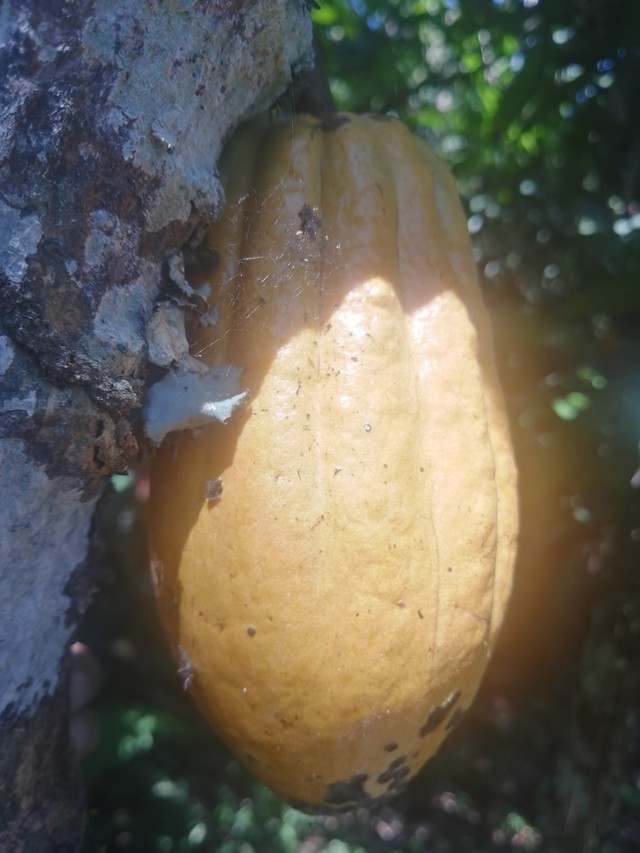Health: (116, 87, 550, 825)
